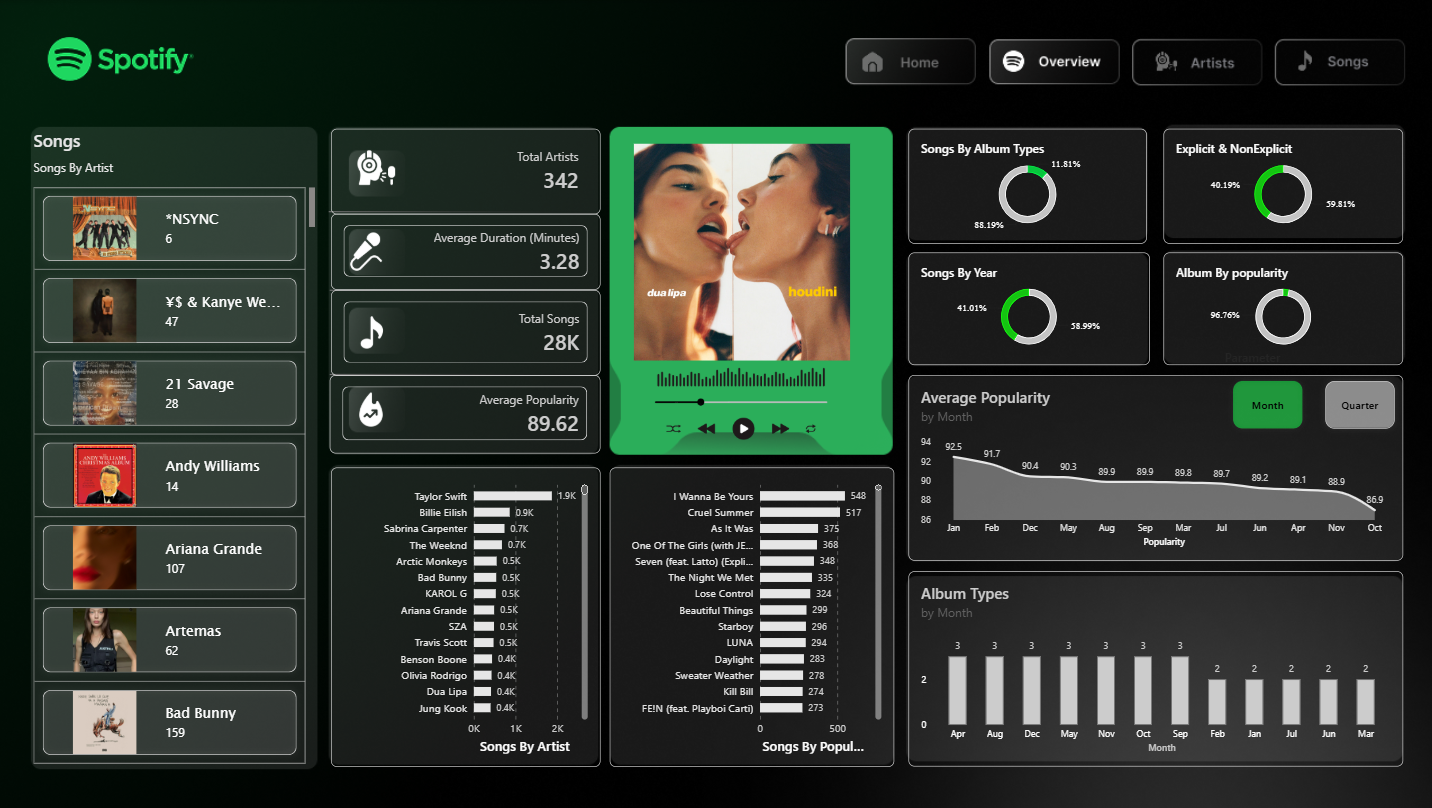

The page's visual inventory and layout, read from the dashboard file:
{"tool":"powerbi","page":{"name":"Overview","canvas":[1920,1080],"ordinal":1},"visuals":[{"type":"image","box":[0,0,1920.1,1080.4],"z":0},{"type":"clusteredBarChart","fields":{"Category":["Top-50-World.artist"],"Y":["CountNonNull(Top-50-World.song)"]},"box":[447,624.3,360.1,399.9],"z":1000},{"type":"barChart","fields":{"Category":["Top-50-World.song"],"Y":["_Measures.Popularity Above 80"]},"box":[819.8,624.3,380,399.9],"z":2000},{"type":"areaChart","fields":{"Category":["Top-50-World.Month"],"Y":["_Measures.Average Popularity"]},"box":[1219.7,501.3,660.5,247.9],"z":3000},{"type":"advancedSlicerVisual","fields":{"Values":["Parameter 2.Parameter"]},"box":[1641.4,465.1,238.9,117.6],"z":4000},{"type":"donutChart","title":"Songs By Album Types","fields":{"Y":["_Measures.Explicit Percentage","_Measures.Album Types"]},"box":[1219.7,171.9,318.5,153.8],"z":5000},{"type":"donutChart","title":"Explicit & NonExplicit","fields":{"Y":["_Measures.Non Explicit Songs","_Measures.Explicit Songs"]},"box":[1559.9,171.9,320.3,153.8],"z":6000},{"type":"donutChart","title":"Songs By Year","fields":{"Y":["_Measures.Total Songs"],"Category":["Top-50-World.Year"]},"box":[1219.7,336.6,322.1,150.2],"z":7000},{"type":"donutChart","title":"Album By popularity","fields":{"Y":["_Measures.Album Types","_Measures.Average Popularity"]},"box":[1559.9,336.6,320.3,150.2],"z":8000},{"type":"clusteredColumnChart","fields":{"Category":["Top-50-World.Month"],"Y":["_Measures.Album Types"]},"box":[1219.7,763.7,660.5,260.6],"z":9000},{"type":"cardVisual","fields":{"Data":["_Measures.Total Artists"]},"box":[447,171.9,360.1,114],"z":10000},{"type":"cardVisual","fields":{"Data":["_Measures.Total Songs"]},"box":[447,387.3,360.1,114],"z":11000},{"type":"cardVisual","fields":{"Data":["_Measures.Average Duration (Minutes)"]},"box":[447,285.9,360.1,101.3],"z":12000},{"type":"cardVisual","fields":{"Data":["_Measures.Average Popularity"]},"box":[445.2,501.3,361.9,105],"z":13000},{"type":"image","box":[468.7,199.1,77.8,50.7],"z":14000},{"type":"image","box":[468.7,309.5,50.7,54.3],"z":15000},{"type":"image","box":[468.7,421.7,65.1,43.4],"z":16000},{"type":"image","box":[468.7,524.8,77.8,45.2],"z":17000},{"type":"advancedSlicerVisual","title":"Songs","fields":{"Values":["Top-50-World.artist"],"Label":["_Measures.Top 10 Songs"]},"box":[50.7,171.9,376.4,852.4],"z":18000},{"type":"image","box":[807.1,191.8,380,289.5],"z":19000},{"type":"image","box":[845.1,407.2,300.4,264.2],"z":20000},{"type":"actionButton","box":[1136.5,52.5,168.3,57.9],"z":21000},{"type":"actionButton","box":[1521.9,52.5,168.3,57.9],"z":22000},{"type":"actionButton","box":[1721,52.5,168.3,57.9],"z":23000}]}

Visuals, with their boxes in screenshot pixels (x1, y1, x2, y2), scaled from the page's 1920x1080 canvas onto the 1432x808 screenshot:
image: (left=0, top=0, right=1431, bottom=807)
clusteredBarChart - Top-50-World.artist x CountNonNull(Top-50-World.song): (left=333, top=467, right=602, bottom=766)
barChart - Top-50-World.song x _Measures.Popularity Above 80: (left=611, top=467, right=895, bottom=766)
areaChart - Top-50-World.Month x _Measures.Average Popularity: (left=910, top=375, right=1402, bottom=561)
advancedSlicerVisual - Parameter 2.Parameter: (left=1224, top=348, right=1402, bottom=436)
"Songs By Album Types" donutChart: (left=910, top=129, right=1147, bottom=244)
"Explicit & NonExplicit" donutChart: (left=1163, top=129, right=1402, bottom=244)
"Songs By Year" donutChart: (left=910, top=252, right=1150, bottom=364)
"Album By popularity" donutChart: (left=1163, top=252, right=1402, bottom=364)
clusteredColumnChart - Top-50-World.Month x _Measures.Album Types: (left=910, top=571, right=1402, bottom=766)
cardVisual - _Measures.Total Artists: (left=333, top=129, right=602, bottom=214)
cardVisual - _Measures.Total Songs: (left=333, top=290, right=602, bottom=375)
cardVisual - _Measures.Average Duration (Minutes): (left=333, top=214, right=602, bottom=290)
cardVisual - _Measures.Average Popularity: (left=332, top=375, right=602, bottom=454)
image: (left=350, top=149, right=408, bottom=187)
image: (left=350, top=232, right=387, bottom=272)
image: (left=350, top=315, right=398, bottom=348)
image: (left=350, top=393, right=408, bottom=426)
"Songs" advancedSlicerVisual: (left=38, top=129, right=319, bottom=766)
image: (left=602, top=143, right=885, bottom=360)
image: (left=630, top=305, right=854, bottom=502)
actionButton: (left=848, top=39, right=973, bottom=83)
actionButton: (left=1135, top=39, right=1261, bottom=83)
actionButton: (left=1284, top=39, right=1409, bottom=83)
